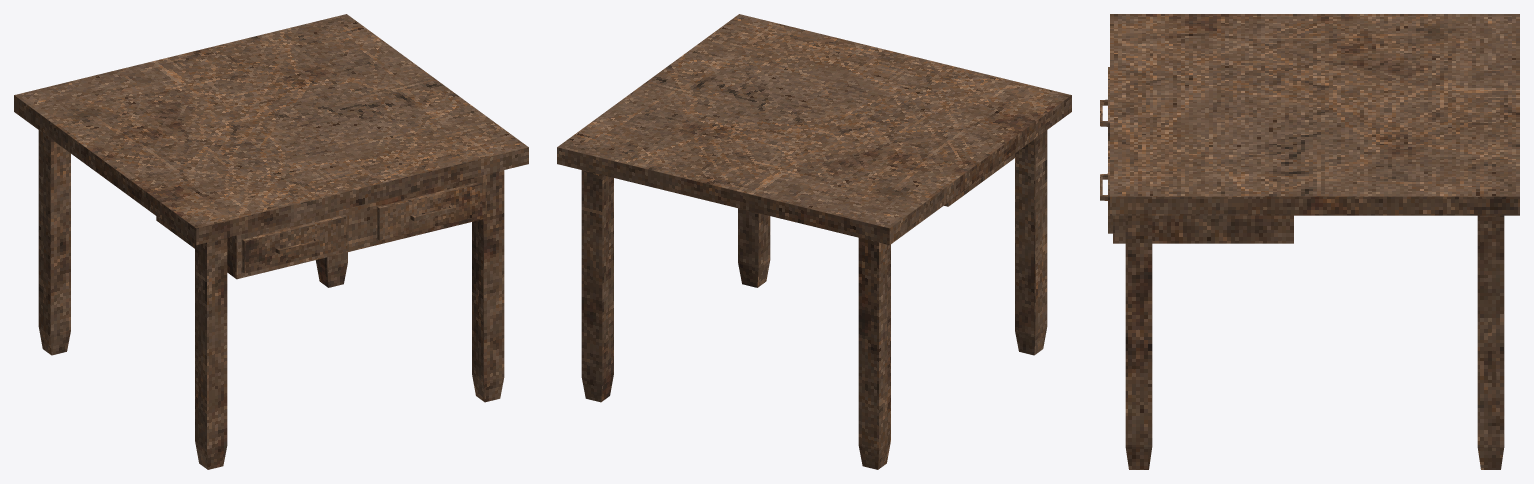
Rendered from psx_tv_stand.glb.
3 renders of one model, left to right at view 1: azimuth 30°, elevation 25°; view 2: azimuth 150°, elevation 25°; view 3: azimuth 270°, elevation 25°, orthographic. The views are drawn at different scales.
Visible parts, largest first — view 1: SM_TVStand_0, SM_Drawer_01_1, SM_Drawer_02_2; view 2: SM_TVStand_0; view 3: SM_TVStand_0.
Part boxes in pixels (x1,y1,x2,y2): SM_TVStand_0: [14, 14, 528, 469]; SM_Drawer_01_1: [242, 214, 347, 273]; SM_Drawer_02_2: [377, 182, 482, 240]; SM_TVStand_0: [557, 14, 1071, 469]; SM_TVStand_0: [1110, 14, 1519, 469].
Bounding box in the file's own units: 1.19 × 0.8652 × 1.16.
1 material, 1 textured.
